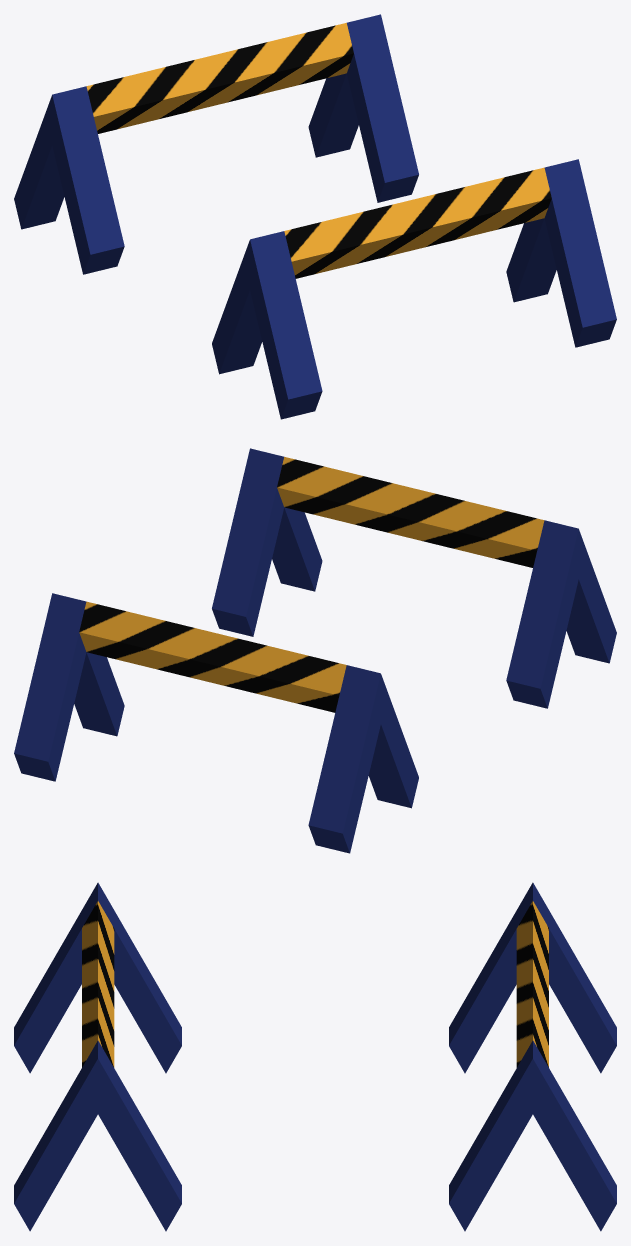
Rendered from RoadBlock.fbx.
The picture shows the model from 3 angles, top to bottom: view 1: azimuth 30°, elevation 25°; view 2: azimuth 150°, elevation 25°; view 3: azimuth 270°, elevation 25°; orthographic projection. The views are drawn at different scales.
Visible parts, largest first — view 1: pCube5; view 2: pCube5; view 3: pCube5.
Boxes of the visible parts, x1,y1,x2,y2 form: pCube5: (14, 14, 616, 419); pCube5: (14, 448, 616, 853); pCube5: (14, 882, 616, 1231).
Size of the model in its own units: 240 by 110 by 347.
Materials: 1 (1 with a texture image).
